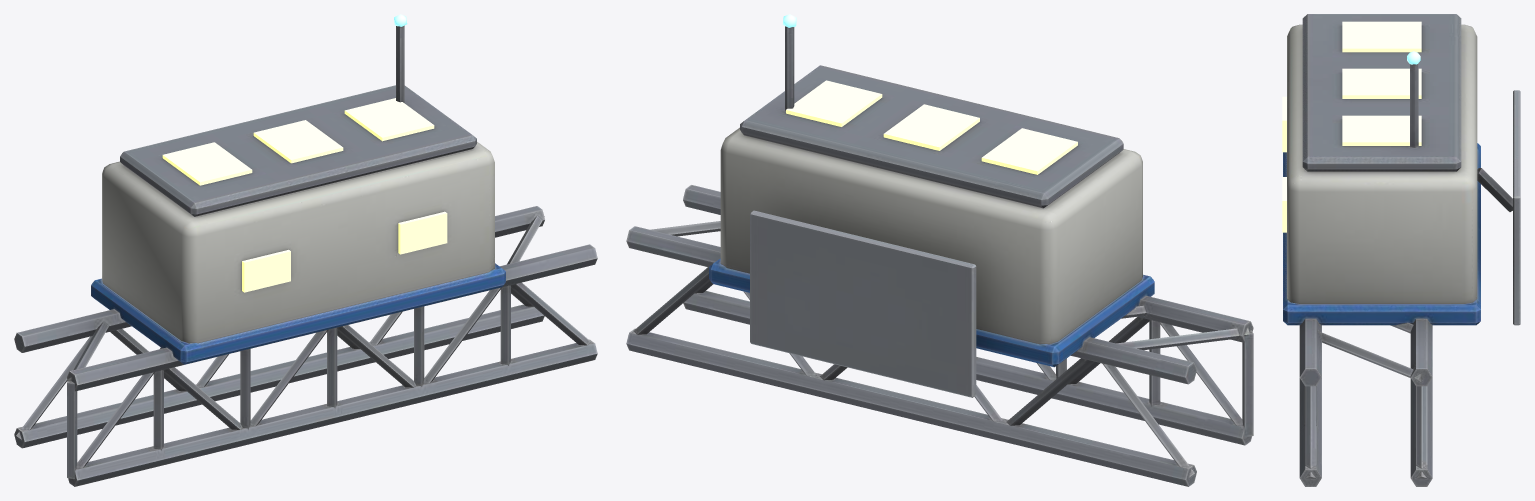
The model's file is parker_module.glb.
3 views of the same model, side by side, from view 1: azimuth 30°, elevation 25°; view 2: azimuth 150°, elevation 25°; view 3: azimuth 270°, elevation 25° (orthographic). The views are drawn at different scales.
Visible parts, largest first — view 1: parker_module, parker_module_glow; view 2: parker_module, parker_module_glow; view 3: parker_module, parker_module_glow.
Boxes of the visible parts, x1,y1,x2,y2 form: parker_module: (14,25,597,486); parker_module_glow: (162,14,447,292); parker_module: (626,26,1253,486); parker_module_glow: (782,14,1077,174); parker_module: (1283,14,1520,486); parker_module_glow: (1282,21,1421,232).
Size of the model in its own units: 4.07 by 2.52 by 1.5.
Materials: 3 (1 with a texture image).
